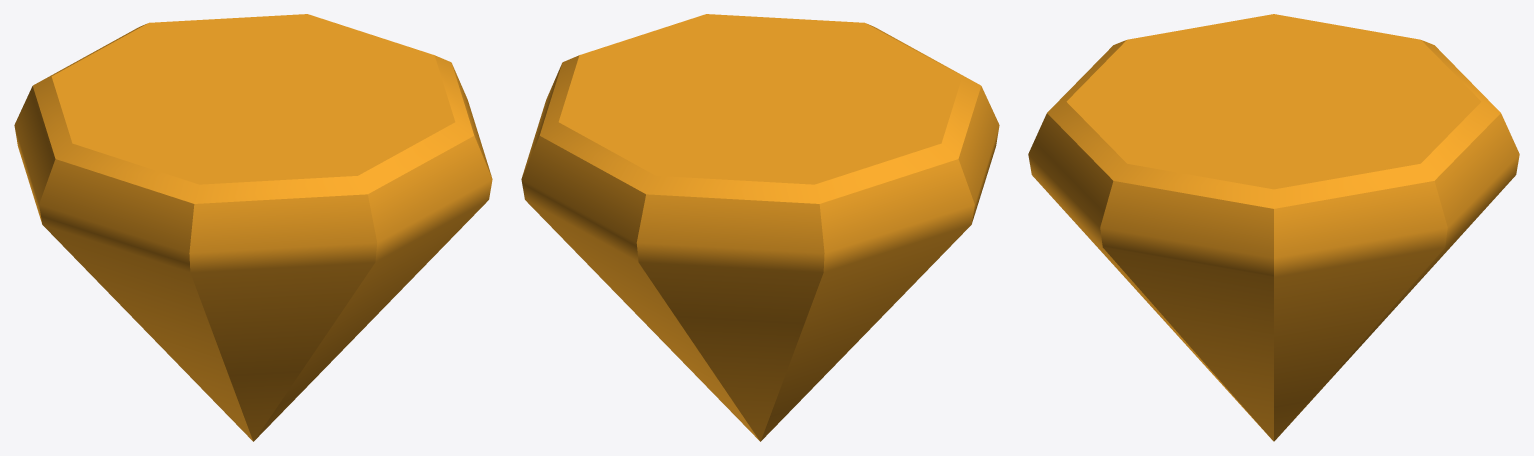
Rendered from Diamond.fbx.
3 views of the same model, side by side, from view 1: azimuth 30°, elevation 25°; view 2: azimuth 150°, elevation 25°; view 3: azimuth 270°, elevation 25° (orthographic).
Visible parts, largest first — view 1: Diamond; view 2: Diamond; view 3: Diamond.
Boxes of the visible parts, x1,y1,x2,y2 form: Diamond: (14,14,492,441); Diamond: (521,14,999,441); Diamond: (1028,14,1519,441).
Bounding box in the file's own units: 3.94 × 3.01 × 3.94.
